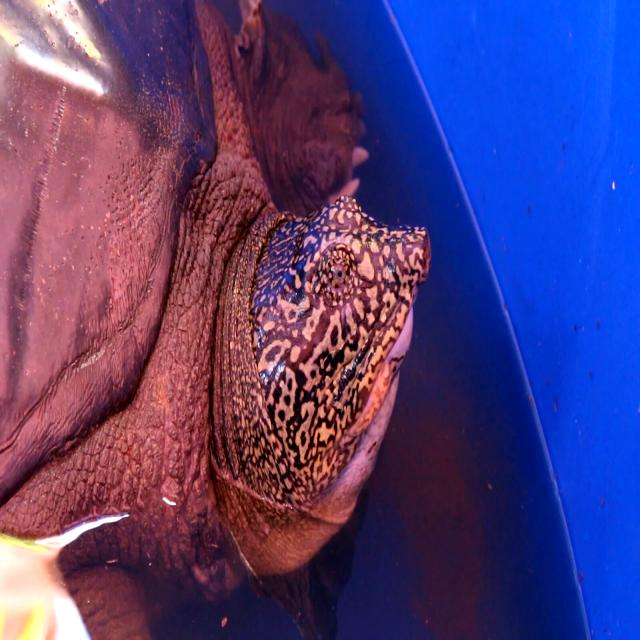Sea turtle: (0, 0, 431, 592)
